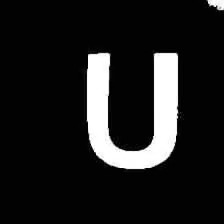LTR_U: (77, 42, 187, 178)
